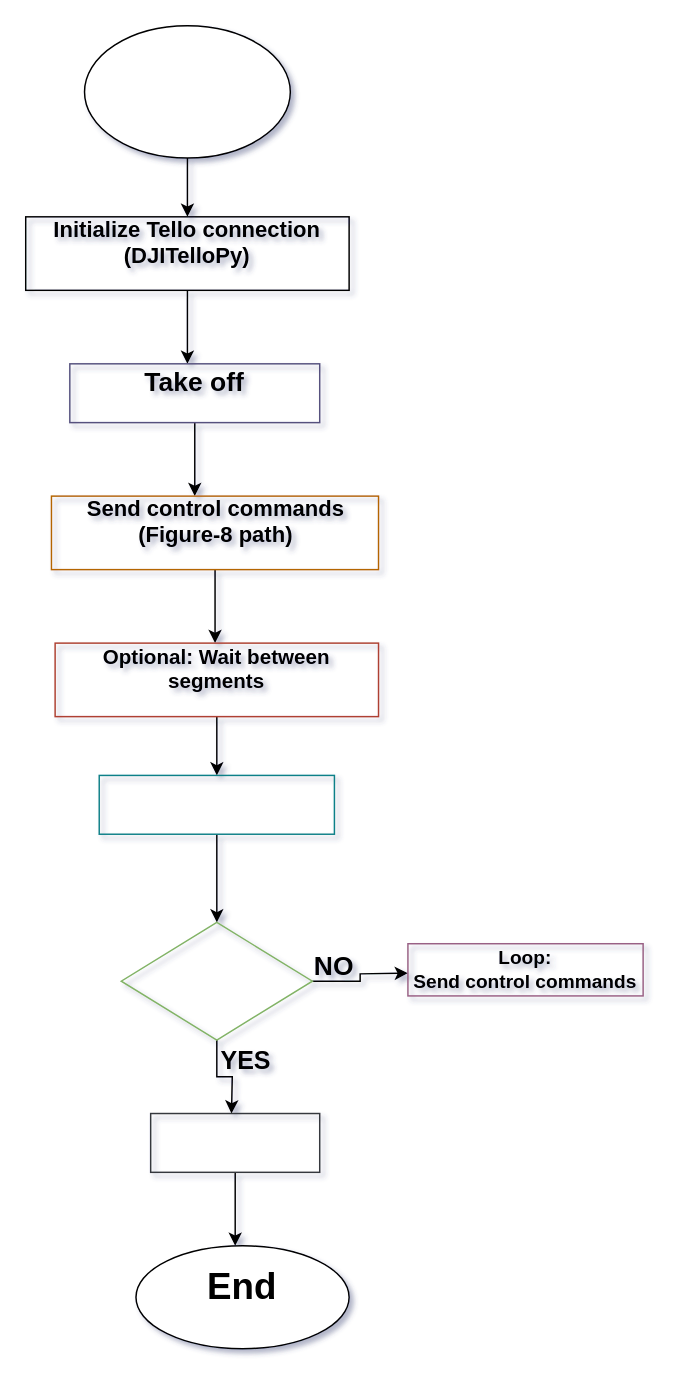
Some shapes in this 678 by 1383 pixel diagram are drawn without their labels. The box of each missing label's shape, as (x1, y1, x2, y2) in pixels:
Count laps: (98, 774, 334, 834)
Has 10 minutes passed?: (120, 921, 312, 1040)
Land: (149, 1112, 320, 1172)
